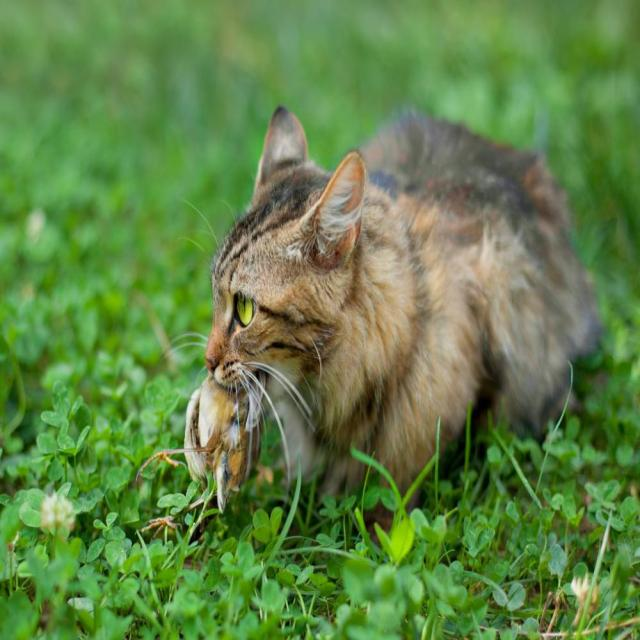cat: (206, 107, 601, 492)
